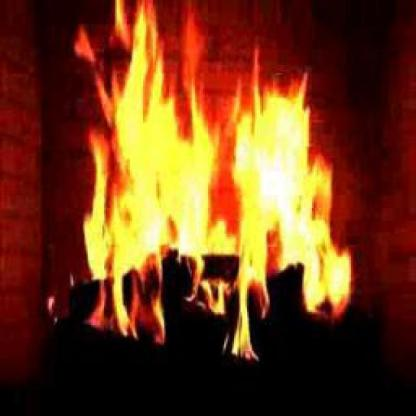fire: (52, 0, 360, 367)
